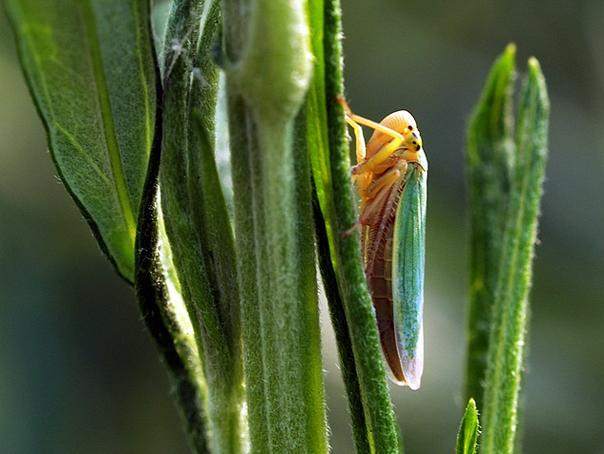Cicadellidae: (338, 96, 428, 389)
